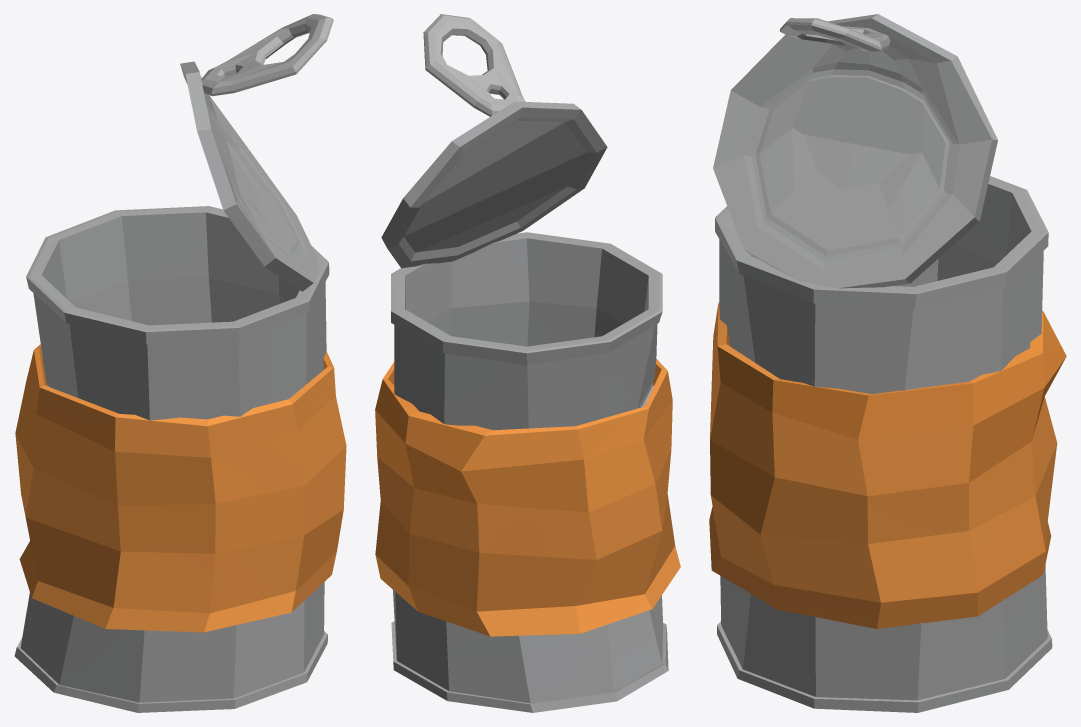
Rendered from can_1_opeend_B.glb.
3 renders of one model, left to right at view 1: azimuth 30°, elevation 25°; view 2: azimuth 150°, elevation 25°; view 3: azimuth 270°, elevation 25°, orthographic. The views are drawn at different scales.
Parts seen in each view (by area): view 1: can_1_opeend_B; view 2: can_1_opeend_B; view 3: can_1_opeend_B.
Part boxes in pixels (<box>): can_1_opeend_B: <box>14,14,346,712</box>; can_1_opeend_B: <box>375,14,680,712</box>; can_1_opeend_B: <box>709,14,1066,712</box>.
Bounding box in the file's own units: 0.1224 × 0.2491 × 0.1171.
1 material, 1 textured.
